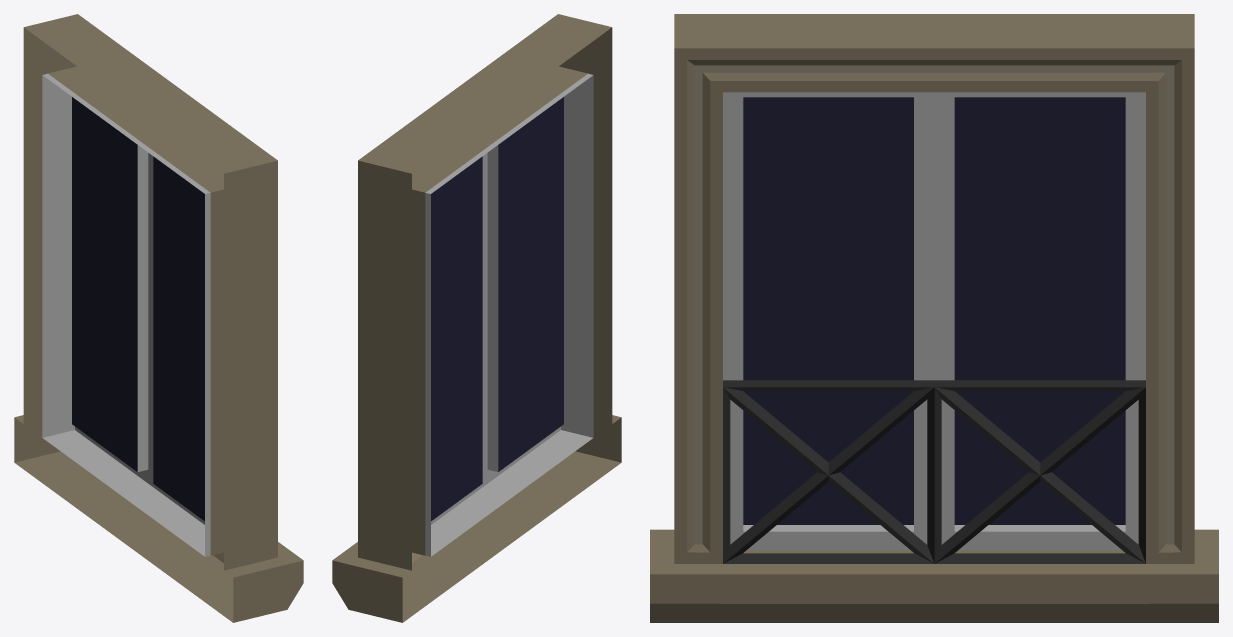
File: Window_2.fbx
3 renders of one model, left to right at view 1: azimuth 30°, elevation 25°; view 2: azimuth 150°, elevation 25°; view 3: azimuth 270°, elevation 25°, orthographic. The views are drawn at different scales.
Visible parts, largest first — view 1: Window_2; view 2: Window_2; view 3: Window_2.
Boxes of the visible parts, box(x1,y1,x2,y2) form: Window_2: box(14, 14, 303, 622); Window_2: box(332, 14, 621, 622); Window_2: box(650, 14, 1218, 622).
Bounding box in the file's own units: 13 × 78.01 × 70.
